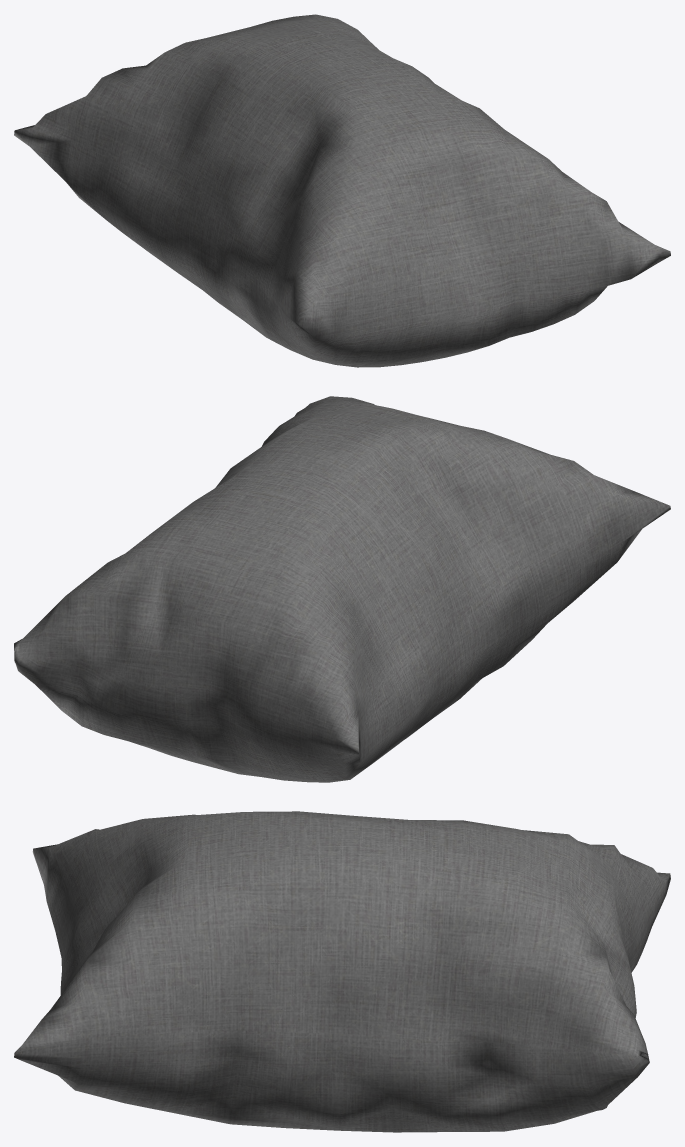
Rendered from smash_pillow_01.glb.
The picture shows the model from 3 angles, top to bottom: view 1: azimuth 30°, elevation 25°; view 2: azimuth 150°, elevation 25°; view 3: azimuth 270°, elevation 25°; orthographic projection. The views are drawn at different scales.
Parts seen in each view (by area): view 1: LP_poduszka; view 2: LP_poduszka; view 3: LP_poduszka.
Part boxes in pixels (left/top/right/bottom): LP_poduszka: left=14, top=14, right=670, bottom=367; LP_poduszka: left=14, top=396, right=670, bottom=782; LP_poduszka: left=14, top=811, right=670, bottom=1132.
Bounding box in the file's own units: 23.38 × 15.77 × 33.38.
1 material, 1 textured.
